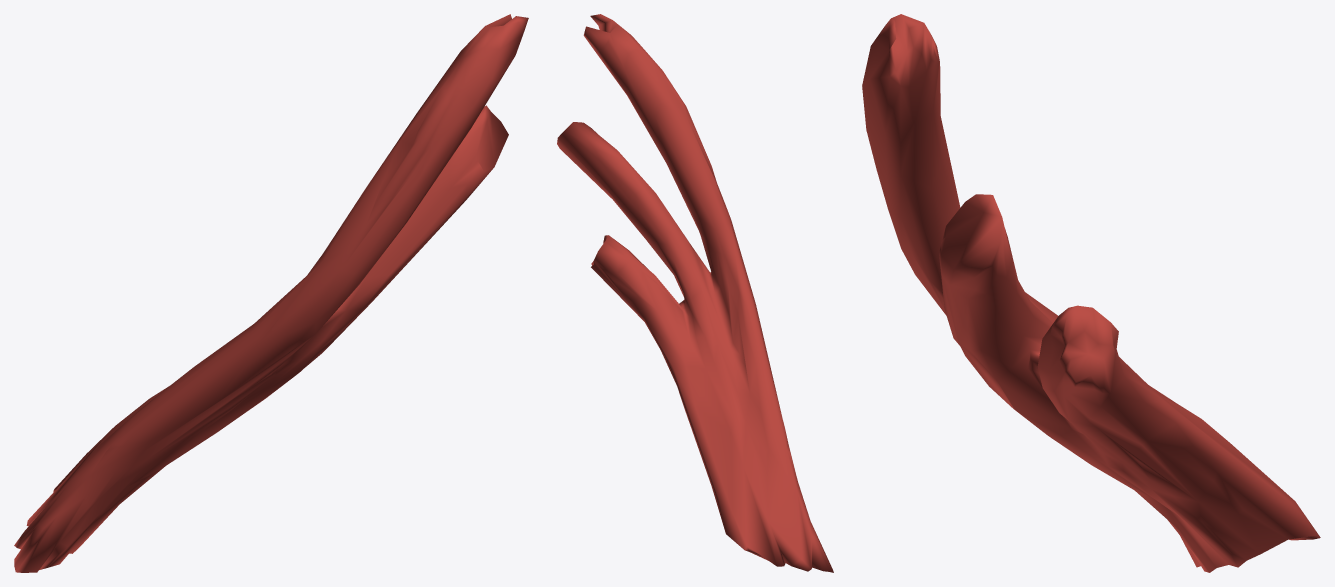
Rendered from musculos-scalenus-posterior-muscle-r.glb.
3 views of the same model, side by side, from view 1: azimuth 30°, elevation 25°; view 2: azimuth 150°, elevation 25°; view 3: azimuth 270°, elevation 25° (orthographic). The views are drawn at different scales.
Parts seen in each view (by area): view 1: Scalenus posterior muscle.r; view 2: Scalenus posterior muscle.r; view 3: Scalenus posterior muscle.r.
Part boxes in pixels (x1=…): Scalenus posterior muscle.r: x1=14, y1=14, x2=528, y2=572; Scalenus posterior muscle.r: x1=557, y1=14, x2=833, y2=572; Scalenus posterior muscle.r: x1=862, y1=14, x2=1320, y2=572.
Bounding box in the file's own units: 0.0442 × 0.0536 × 0.0274.
